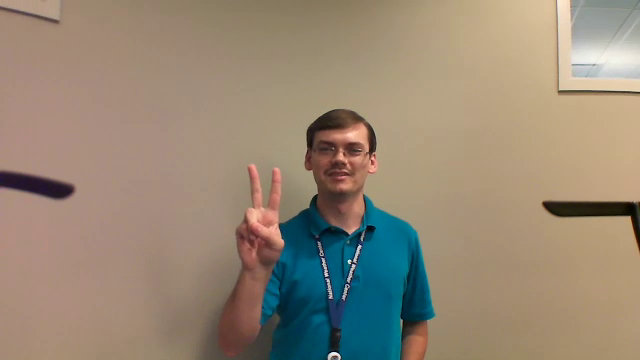peace: (221, 155, 303, 280)
